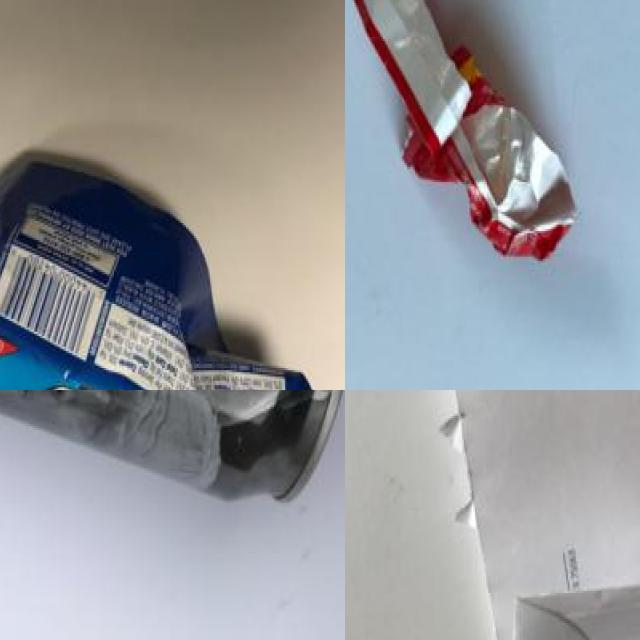paper: (389, 390, 640, 640)
plastic: (0, 390, 345, 512)
trash: (0, 101, 345, 390), (345, 0, 613, 278)
